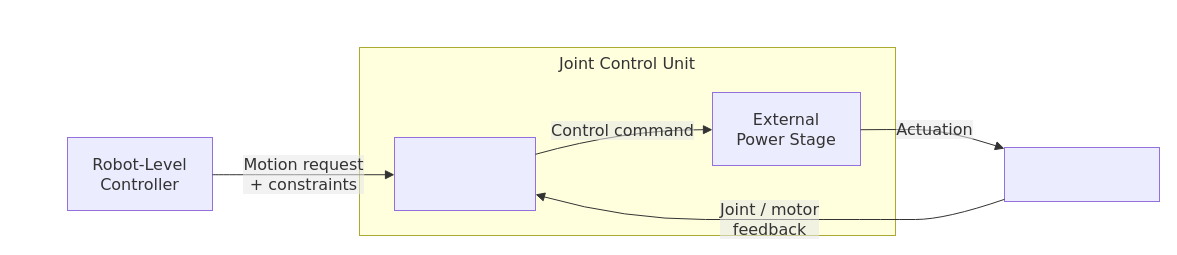
The diagram is 1177 pixels wide and 255 high, and some of its shapes have lost their labels. Each missing label, with the box of its shape:
Conceptual MCU / SoC: (394, 136, 536, 210)
Motor / Joint: (1004, 146, 1160, 202)
